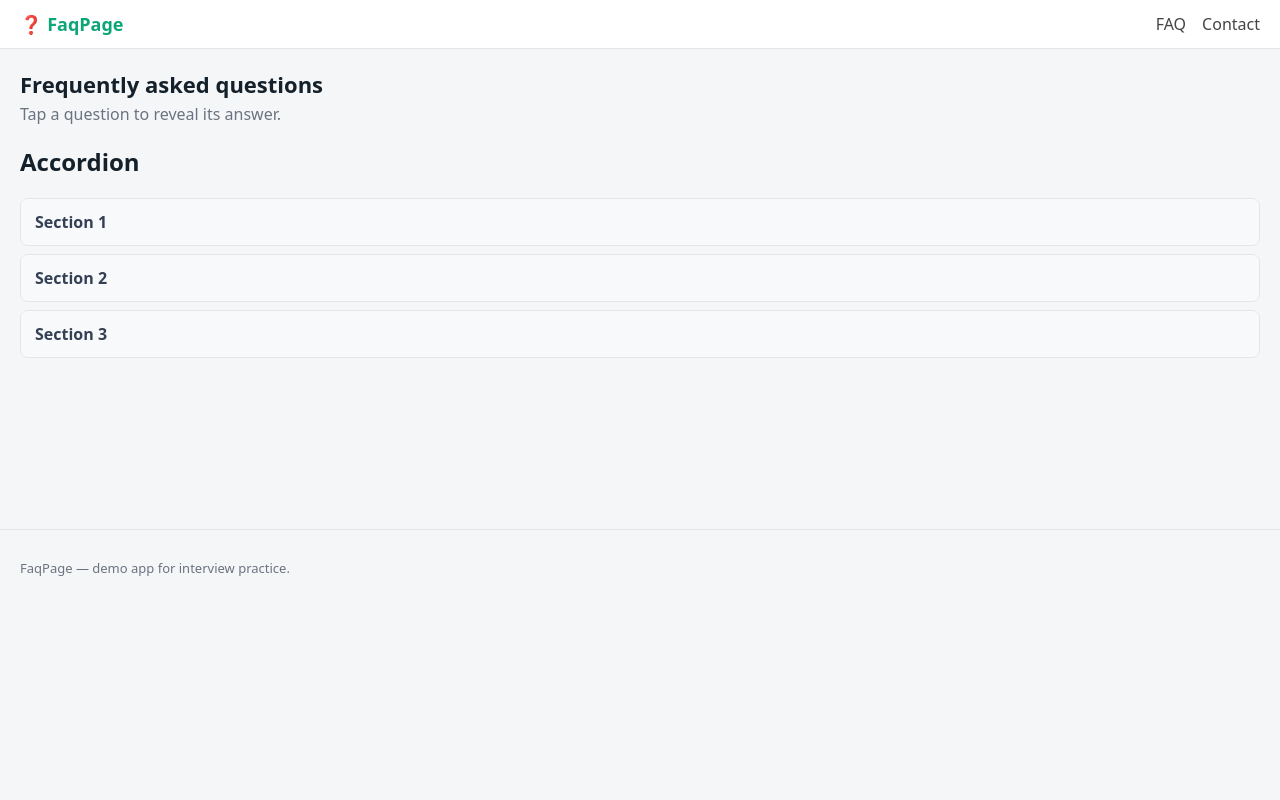
Test: m02 · FaqPage — app renders › navigates to the Contact route via the navbar
The image size is (1280, 800).
Click the link with test id "nav-contact". click: {"x": 1231, "y": 24}
box: top-left (1202, 13), bottom-right (1260, 35)
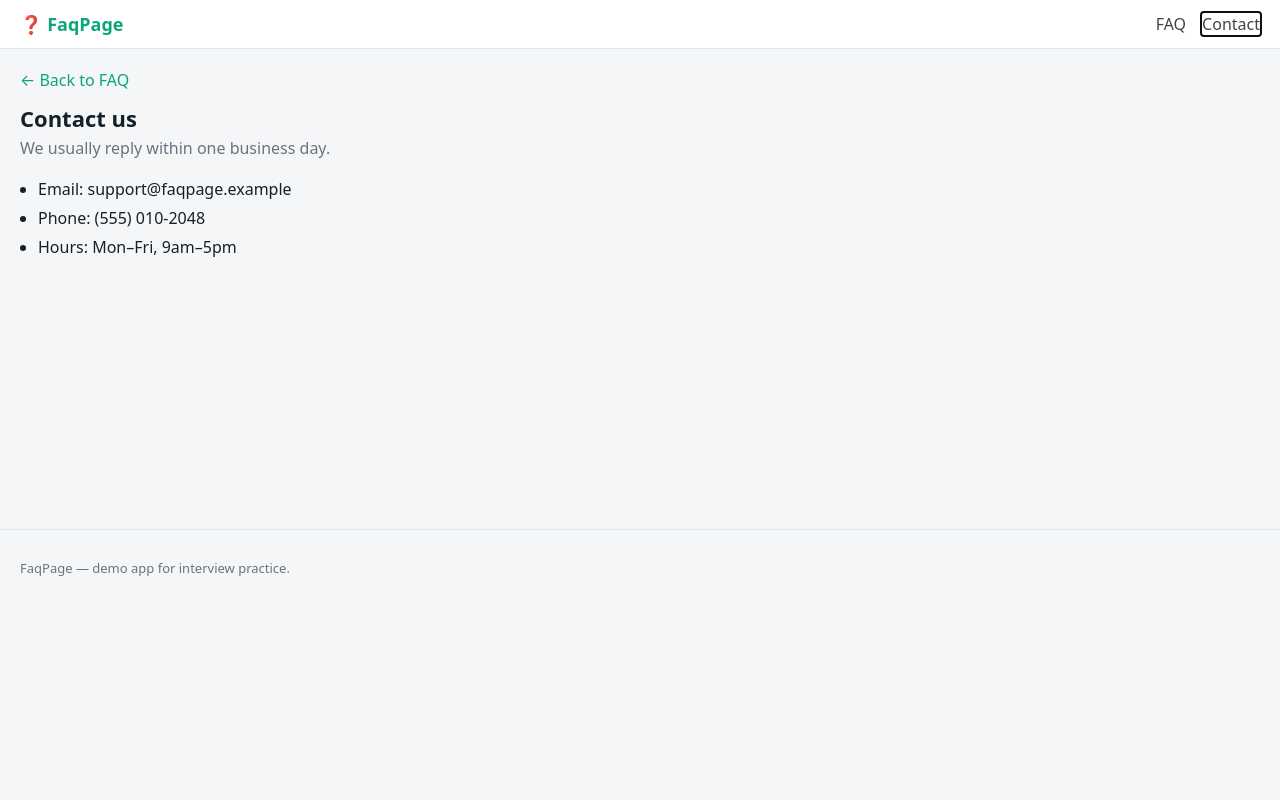
Check: the element with test id "contact-page" is shown, box top-left (20, 69), bottom-right (330, 258)
